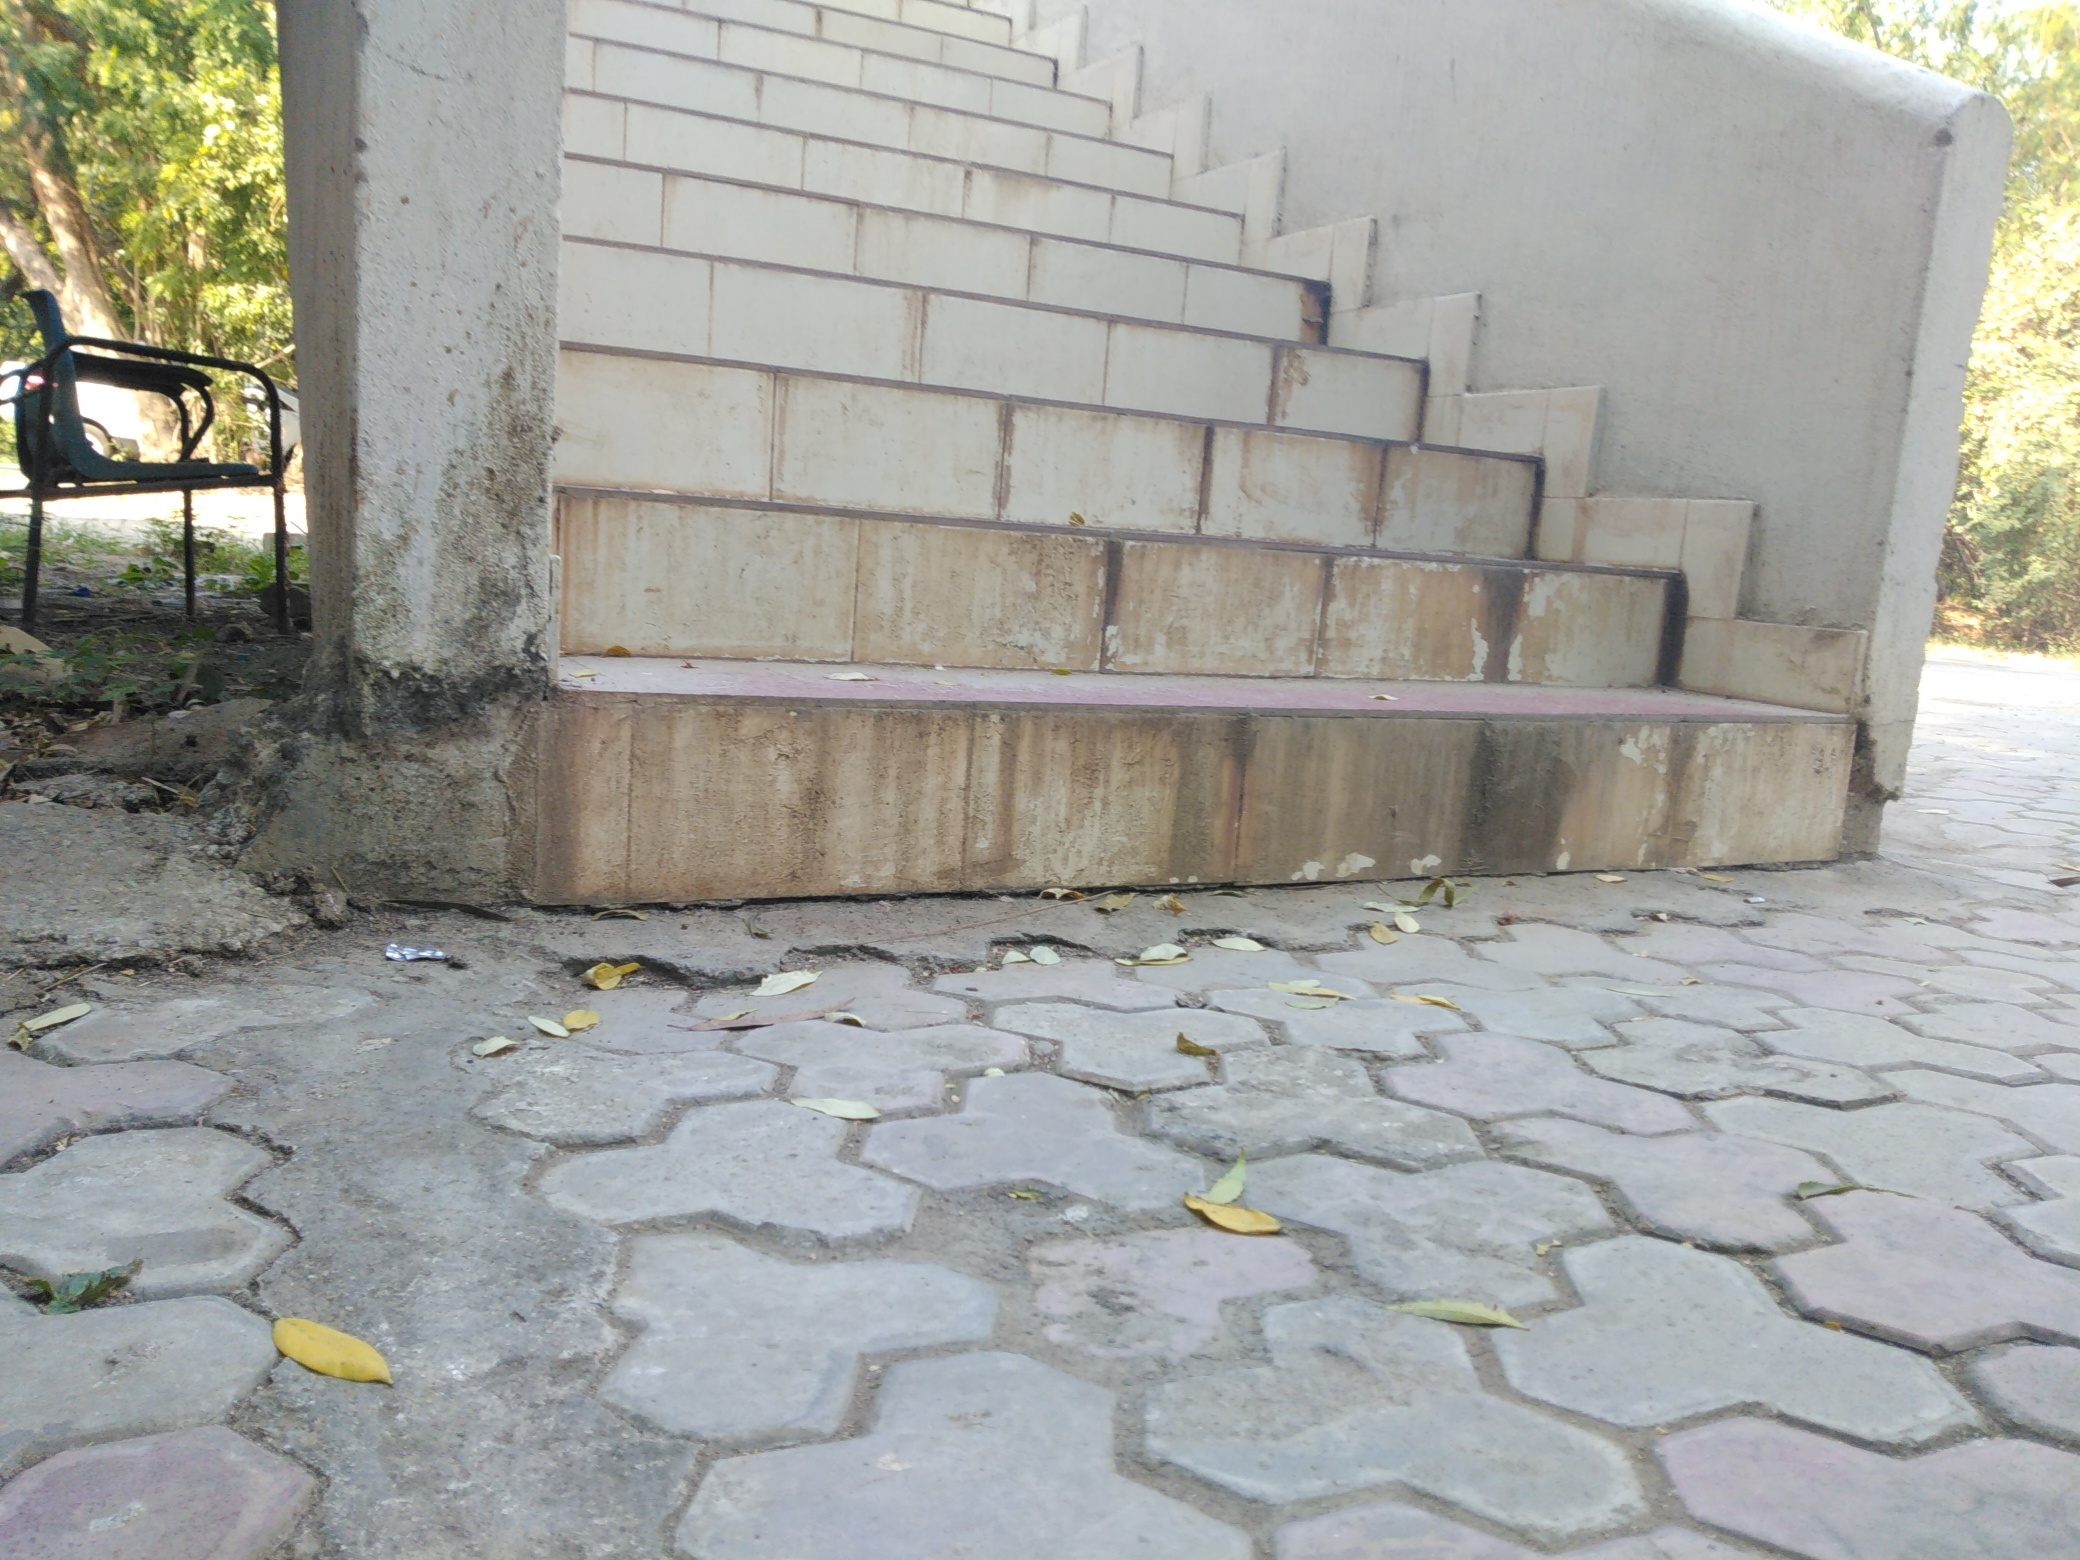stairs_up: (567, 2, 1846, 916)
